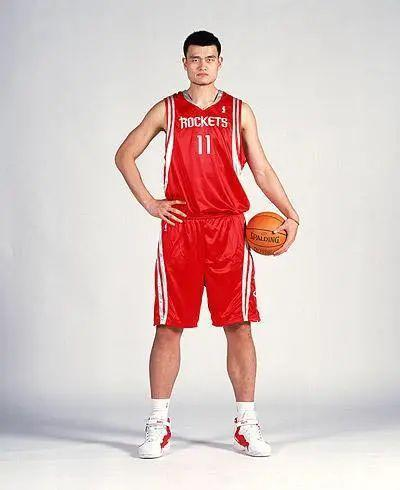ball: (246, 212, 292, 256)
